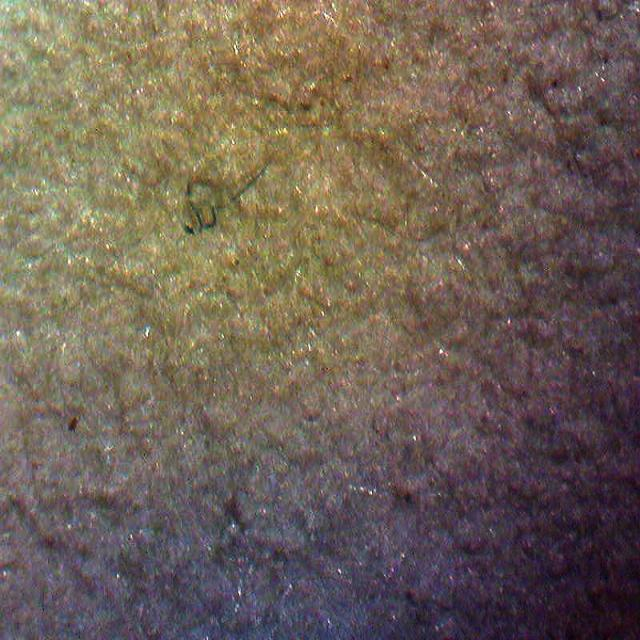microplastic: (180, 167, 266, 240)
